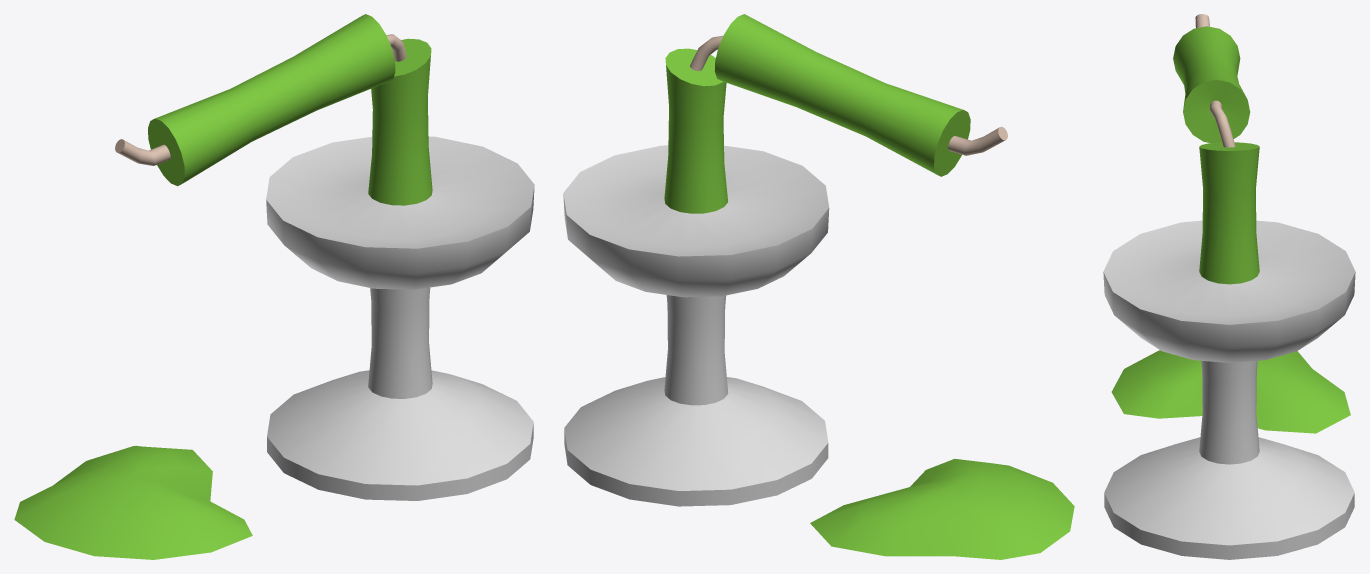
The model's file is candle.FBX.
3 renders of one model, left to right at view 1: azimuth 30°, elevation 25°; view 2: azimuth 150°, elevation 25°; view 3: azimuth 270°, elevation 25°, orthographic. The views are drawn at different scales.
Visible parts, largest first — view 1: Cylinder001; view 2: Cylinder001; view 3: Cylinder001.
Part boxes in pixels (x1,y1,x2,y2): Cylinder001: (14, 14, 534, 559); Cylinder001: (563, 14, 1074, 559); Cylinder001: (1103, 14, 1355, 559).
Size of the model in its own units: 208 by 181 by 101.
Materials: 1 (1 with a texture image).
